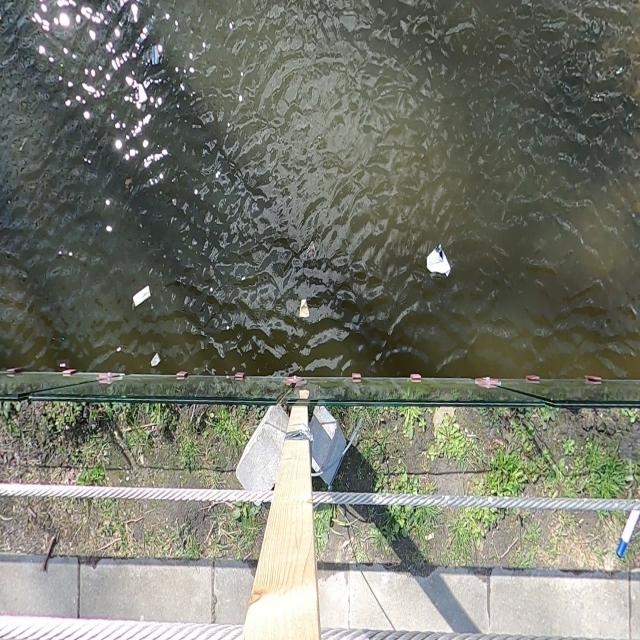Non plastique: (126, 281, 156, 318), (294, 297, 311, 325)
